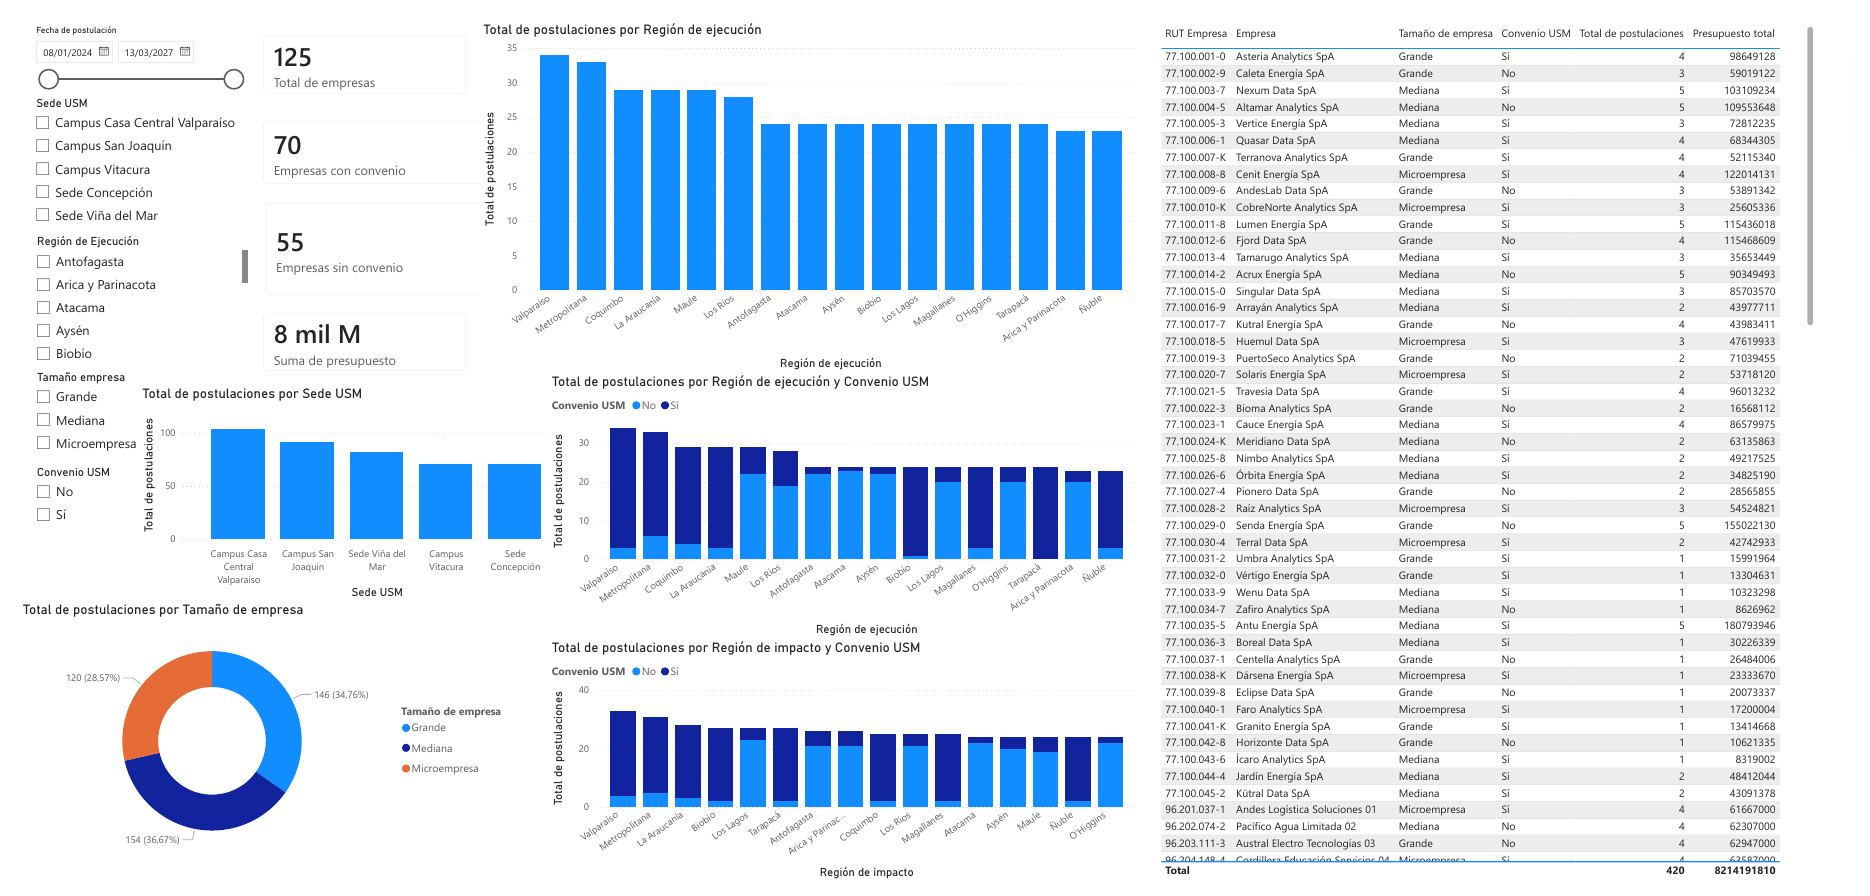

The page's visual inventory and layout, read from the dashboard file:
{"tool":"powerbi","page":{"name":"Dashboard 2","canvas":[2300,1080],"ordinal":1},"visuals":[{"type":"slicer","fields":{"Values":["ct_usm_postulaciones vw_postulacion_gestion.fecha_postulacion"]},"box":[9,0,282,89],"z":0},{"type":"slicer","fields":{"Values":["ct_usm_postulaciones vw_postulacion_gestion.nombre_sede"]},"box":[9,89,282,175],"z":1000},{"type":"slicer","fields":{"Values":["ct_usm_postulaciones vw_postulacion_gestion.nombre_region_ejecucion"]},"box":[10,263.3,283.3,170],"z":2000},{"type":"slicer","fields":{"Values":["ct_usm_postulaciones vw_postulacion_gestion.tamanio"]},"box":[10,433.3,281.7,118.3],"z":3000},{"type":"slicer","fields":{"Values":["ct_usm_postulaciones vw_postulacion_gestion.convenio_usm"]},"box":[10,551.7,281.7,83.3],"z":4000},{"type":"cardVisual","fields":{"Data":["CountNonNull(ct_usm_postulaciones empresa.rut_empresa)"]},"box":[290,0,288.3,106.7],"z":5000},{"type":"cardVisual","fields":{"Data":["Count(ct_usm_postulaciones vw_postulacion_gestion.rut_empresa)"]},"box":[290,106.7,431.7,113.3],"z":6000},{"type":"cardVisual","fields":{"Data":["Count(ct_usm_postulaciones vw_postulacion_gestion.rut_empresa)"]},"box":[293.3,210,430,150],"z":7000},{"type":"cardVisual","fields":{"Data":["Sum(ct_usm_postulaciones vw_postulacion_gestion.presupuesto)"]},"box":[290,348.3,288.3,106.7],"z":8000},{"type":"clusteredColumnChart","fields":{"Y":["CountNonNull(ct_usm_postulaciones vw_postulacion_gestion.codigo_postulacion)"],"Category":["ct_usm_postulaciones vw_postulacion_gestion.nombre_region_ejecucion"]},"box":[578.3,0,830,441.7],"z":9000},{"type":"clusteredColumnChart","fields":{"Y":["CountNonNull(ct_usm_postulaciones vw_postulacion_gestion.codigo_postulacion)"],"Category":["ct_usm_postulaciones vw_postulacion_gestion.nombre_sede"]},"box":[150,456.7,548.3,273.3],"z":10000},{"type":"donutChart","fields":{"Y":["CountNonNull(ct_usm_postulaciones vw_postulacion_gestion.codigo_postulacion)"],"Series":["ct_usm_postulaciones vw_postulacion_gestion.tamanio"]},"box":[0,728,626,330],"z":11000},{"type":"columnChart","fields":{"Y":["CountNonNull(ct_usm_postulaciones vw_postulacion_gestion.codigo_postulacion)"],"Category":["ct_usm_postulaciones vw_postulacion_gestion.nombre_region_ejecucion"],"Series":["ct_usm_postulaciones vw_postulacion_gestion.convenio_usm"]},"box":[664,442,744,334],"z":12000},{"type":"columnChart","fields":{"Y":["CountNonNull(ct_usm_postulaciones vw_postulacion_gestion.codigo_postulacion)"],"Series":["ct_usm_postulaciones vw_postulacion_gestion.convenio_usm"],"Category":["ct_usm_postulaciones vw_postulacion_gestion.nombre_region_impacto"]},"box":[664,776,744,304],"z":13000},{"type":"tableEx","fields":{"Values":["ct_usm_postulaciones empresa.rut_empresa","ct_usm_postulaciones empresa.nombre_empresa","ct_usm_postulaciones tamanio_empresa.tamanio","ct_usm_postulaciones convenio_usm.convenio_usm","ct_usm_postulaciones postulacion.codigo_postulacion","Sum(ct_usm_postulaciones postulacion.presupuesto)"]},"box":[1428,0,830,1080],"z":14000}]}

Visuals, with their boxes in screenshot pixels (x1, y1, x2, y2), scaled from the page's 2300x1080 canvas onto the 1870x896 screenshot:
slicer - ct_usm_postulaciones vw_postulacion_gestion.fecha_postulacion: box=[7, 0, 237, 74]
slicer - ct_usm_postulaciones vw_postulacion_gestion.nombre_sede: box=[7, 74, 237, 219]
slicer - ct_usm_postulaciones vw_postulacion_gestion.nombre_region_ejecucion: box=[8, 218, 238, 359]
slicer - ct_usm_postulaciones vw_postulacion_gestion.tamanio: box=[8, 359, 237, 458]
slicer - ct_usm_postulaciones vw_postulacion_gestion.convenio_usm: box=[8, 458, 237, 527]
cardVisual - CountNonNull(ct_usm_postulaciones empresa.rut_empresa): box=[236, 0, 470, 89]
cardVisual - Count(ct_usm_postulaciones vw_postulacion_gestion.rut_empresa): box=[236, 89, 587, 183]
cardVisual - Count(ct_usm_postulaciones vw_postulacion_gestion.rut_empresa): box=[238, 174, 588, 299]
cardVisual - Sum(ct_usm_postulaciones vw_postulacion_gestion.presupuesto): box=[236, 289, 470, 377]
clusteredColumnChart - CountNonNull(ct_usm_postulaciones vw_postulacion_gestion.codigo_postulacion) x ct_usm_postulaciones vw_postulacion_gestion.nombre_region_ejecucion: box=[470, 0, 1145, 366]
clusteredColumnChart - CountNonNull(ct_usm_postulaciones vw_postulacion_gestion.codigo_postulacion) x ct_usm_postulaciones vw_postulacion_gestion.nombre_sede: box=[122, 379, 568, 606]
donutChart - CountNonNull(ct_usm_postulaciones vw_postulacion_gestion.codigo_postulacion) x ct_usm_postulaciones vw_postulacion_gestion.tamanio: box=[0, 604, 509, 878]
columnChart - CountNonNull(ct_usm_postulaciones vw_postulacion_gestion.codigo_postulacion) x ct_usm_postulaciones vw_postulacion_gestion.nombre_region_ejecucion: box=[540, 367, 1145, 644]
columnChart - CountNonNull(ct_usm_postulaciones vw_postulacion_gestion.codigo_postulacion) x ct_usm_postulaciones vw_postulacion_gestion.convenio_usm: box=[540, 644, 1145, 895]
tableEx - ct_usm_postulaciones empresa.rut_empresa x ct_usm_postulaciones empresa.nombre_empresa: box=[1161, 0, 1836, 895]
